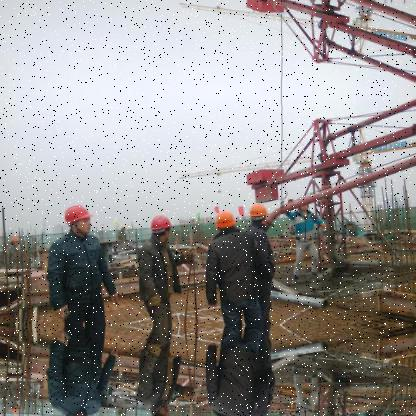helmet: (63, 201, 96, 234), (150, 210, 175, 242), (217, 205, 238, 231), (249, 200, 269, 224), (150, 404, 176, 414), (11, 232, 22, 246), (11, 400, 22, 414)
